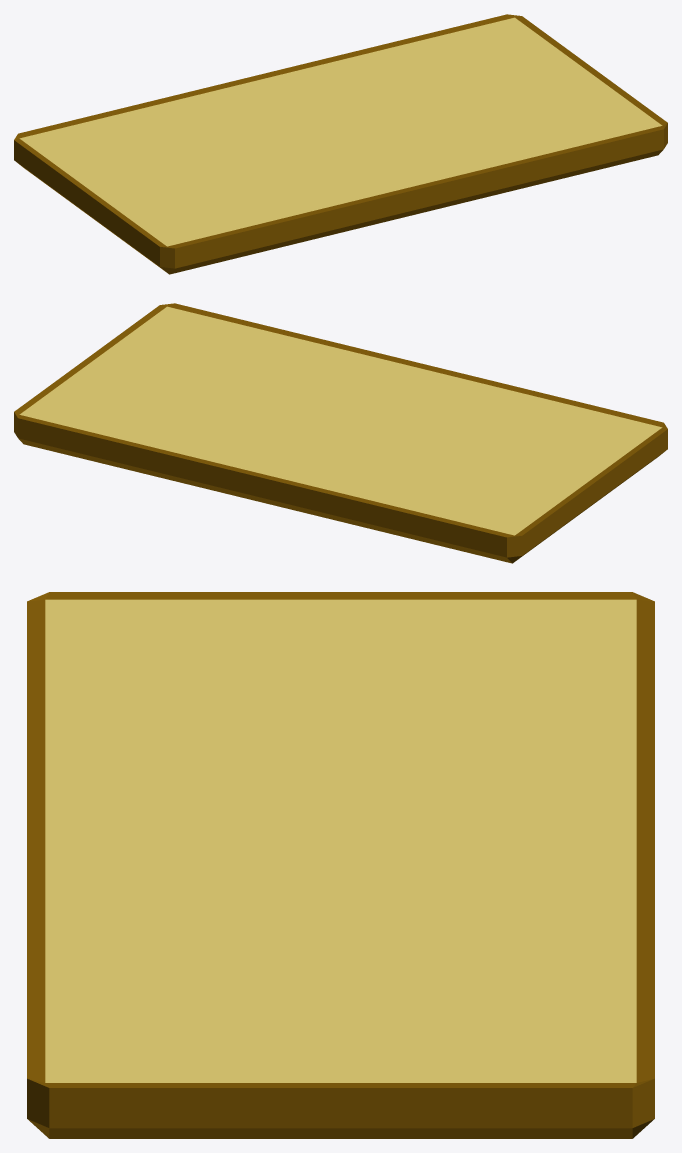
File: ruikkari.fbx
3 renders of one model, top to bottom at view 1: azimuth 30°, elevation 25°; view 2: azimuth 150°, elevation 25°; view 3: azimuth 270°, elevation 25°, orthographic. The views are drawn at different scales.
Visible parts, largest first — view 1: Cube; view 2: Cube; view 3: Cube.
Part boxes in pixels (bbox=[...]): Cube: bbox=[14, 14, 667, 274]; Cube: bbox=[14, 303, 667, 563]; Cube: bbox=[27, 592, 654, 1138].
Bounding box in the file's own units: 374 × 21.21 × 200.
